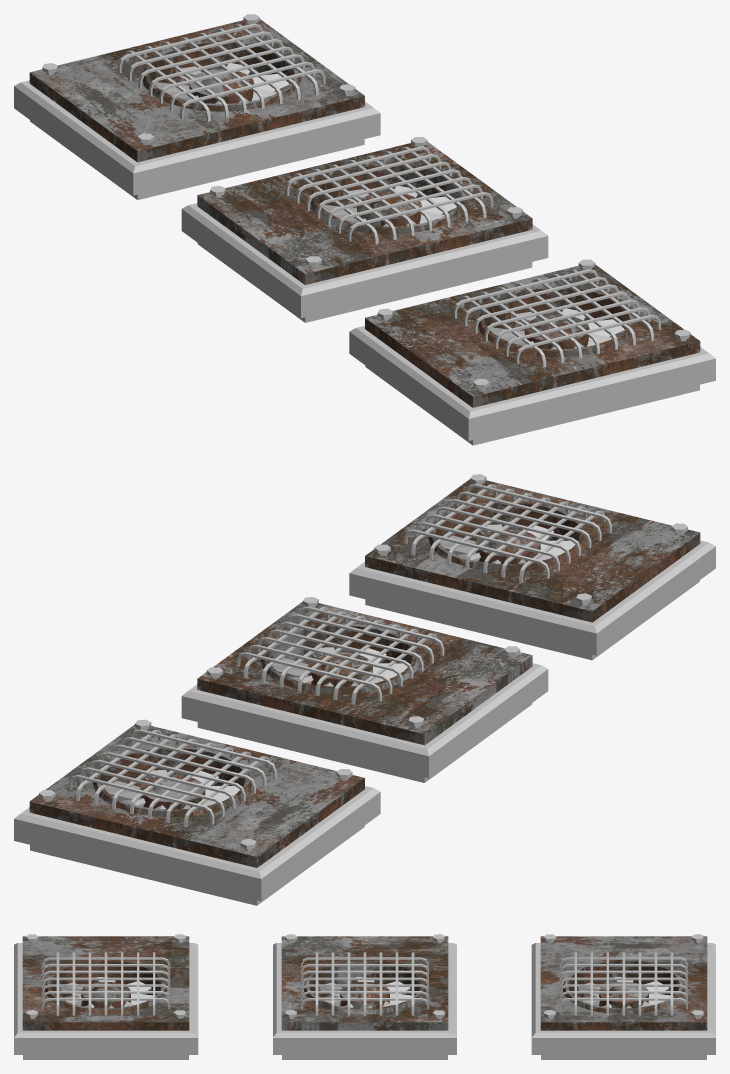
The model's file is Component_Vents_grp.fbx.
3 views of the same model, one above another, from view 1: azimuth 30°, elevation 25°; view 2: azimuth 150°, elevation 25°; view 3: azimuth 270°, elevation 25° (orthographic). The views are drawn at different scales.
Visible parts, largest first — view 1: vents_metalA, vents_metalB, vents_metalRust; view 2: vents_metalA, vents_metalB, vents_metalRust; view 3: vents_metalA, vents_metalB, vents_metalRust.
Boxes of the visible parts, x1,y1,x2,y2 form: vents_metalA: (29,19,700,407); vents_metalB: (14,80,715,445); vents_metalRust: (42,14,690,390); vents_metalA: (29,479,700,867); vents_metalB: (14,540,715,905); vents_metalRust: (39,474,687,850); vents_metalA: (22,936,707,1030); vents_metalB: (14,943,715,1059); vents_metalRust: (25,934,704,1019).
Bounding box in the file's own units: 153 × 38.3 × 488.
